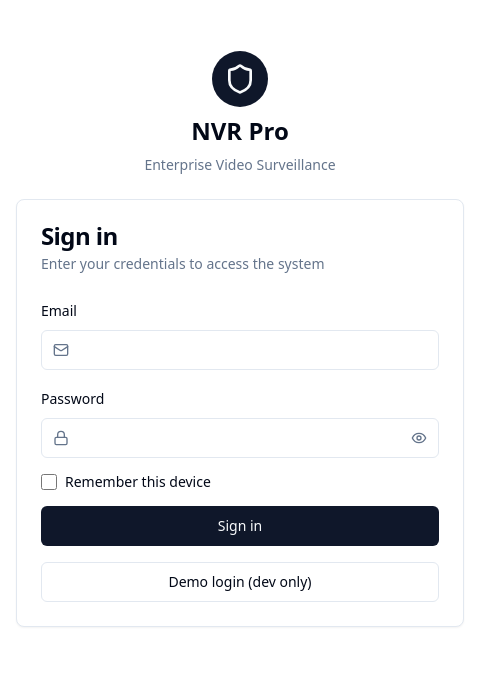
it: Login › shows generic error on invalid credentials
In the field labelled "Email": (240, 350) left=41, top=330, right=439, bottom=370, type "admin@example.com"
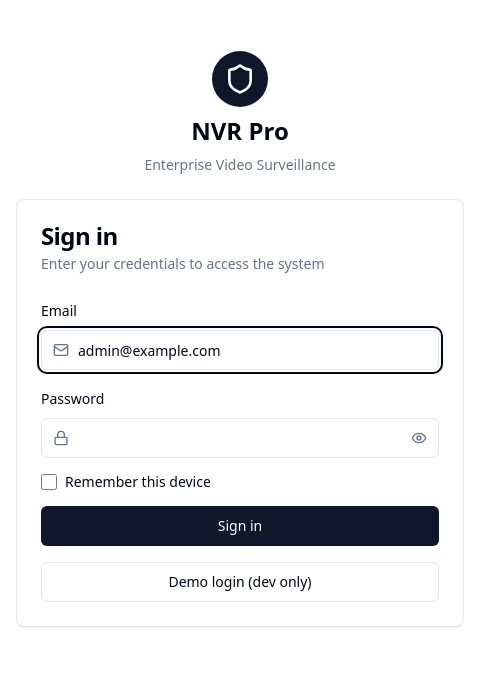
In the password field labelled "Password": (240, 438) left=41, top=418, right=439, bottom=458, type "wrong"
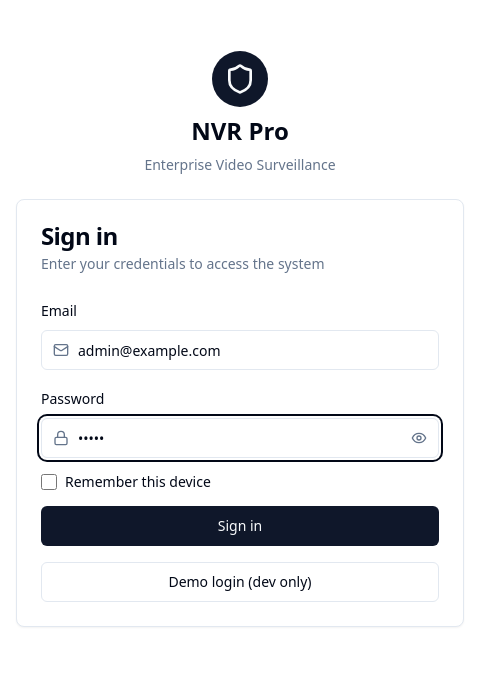
Click the button "Sign in": click(240, 526) left=41, top=506, right=439, bottom=546
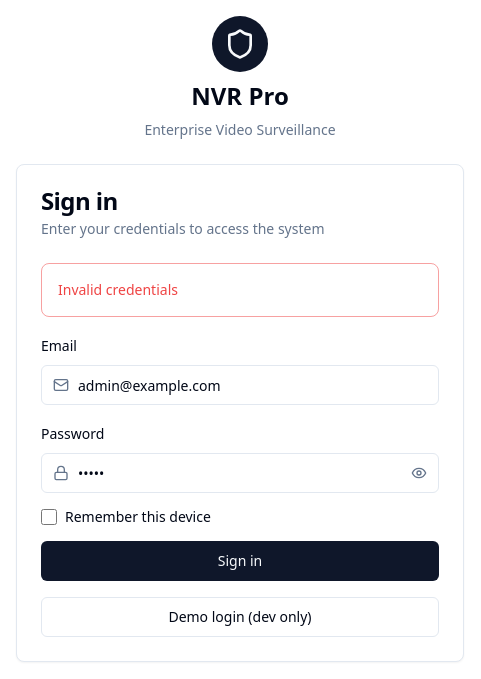
Check: the message reads "Invalid credentials", box left=58, top=280, right=178, bottom=299
